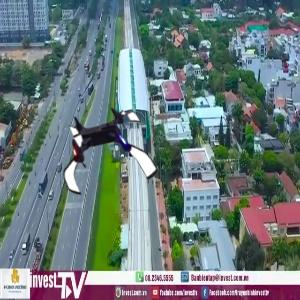drone: (53, 103, 155, 205)
